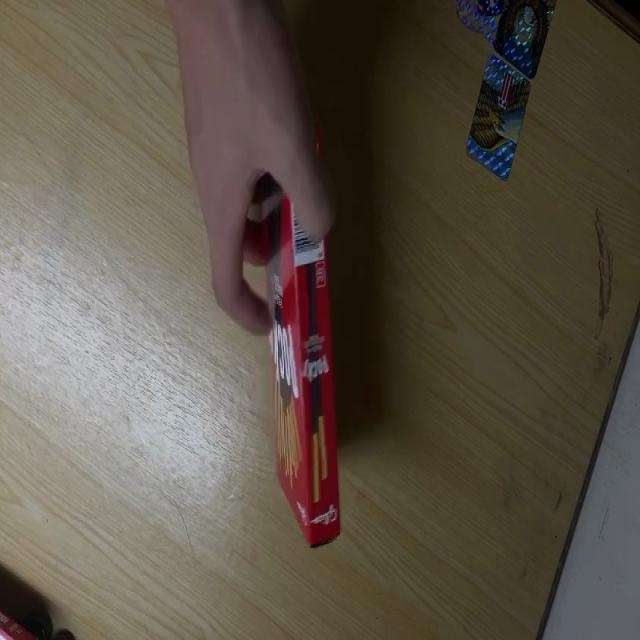Pocky: (255, 70, 342, 551)
